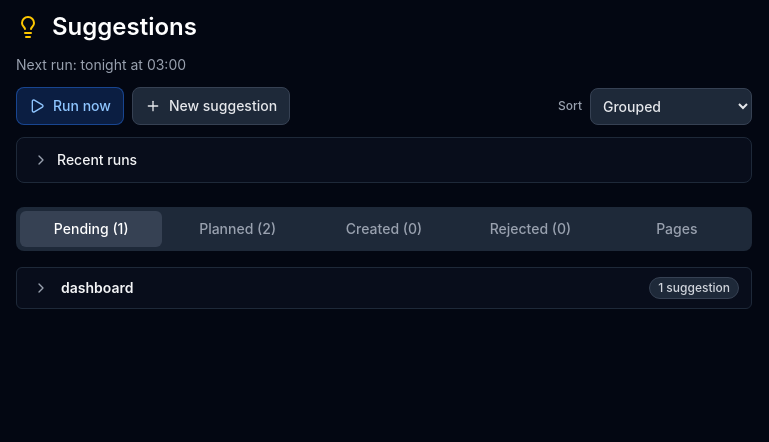
Scenario: Suggestions – data fetch › shows loading skeleton, then renders tab counts and pending cards
Expected: the tab "Pending (1)" is shown, [20, 211, 162, 247]
Expected: the tab "Planned (2)" is shown, [166, 211, 309, 247]
What coordinates should you click on to do the following:
click the button with test id "suggestion-group-header-dashboard"
I would click on:
 (97, 288)
Its box is [16, 267, 752, 309].
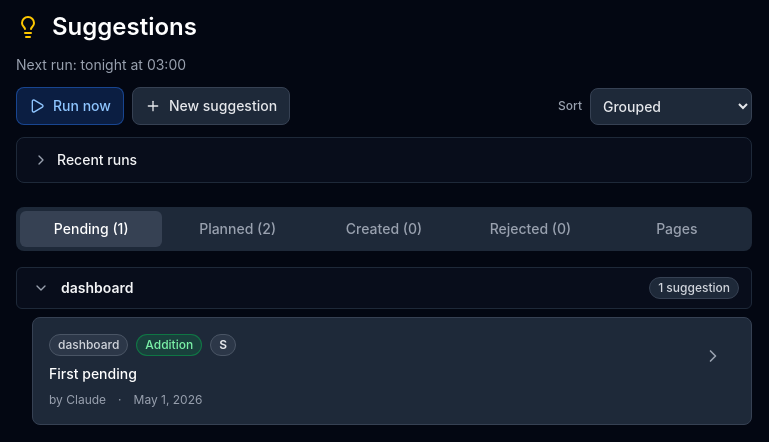
Result: the heading "First pending" is shown at [49, 365, 137, 382]
